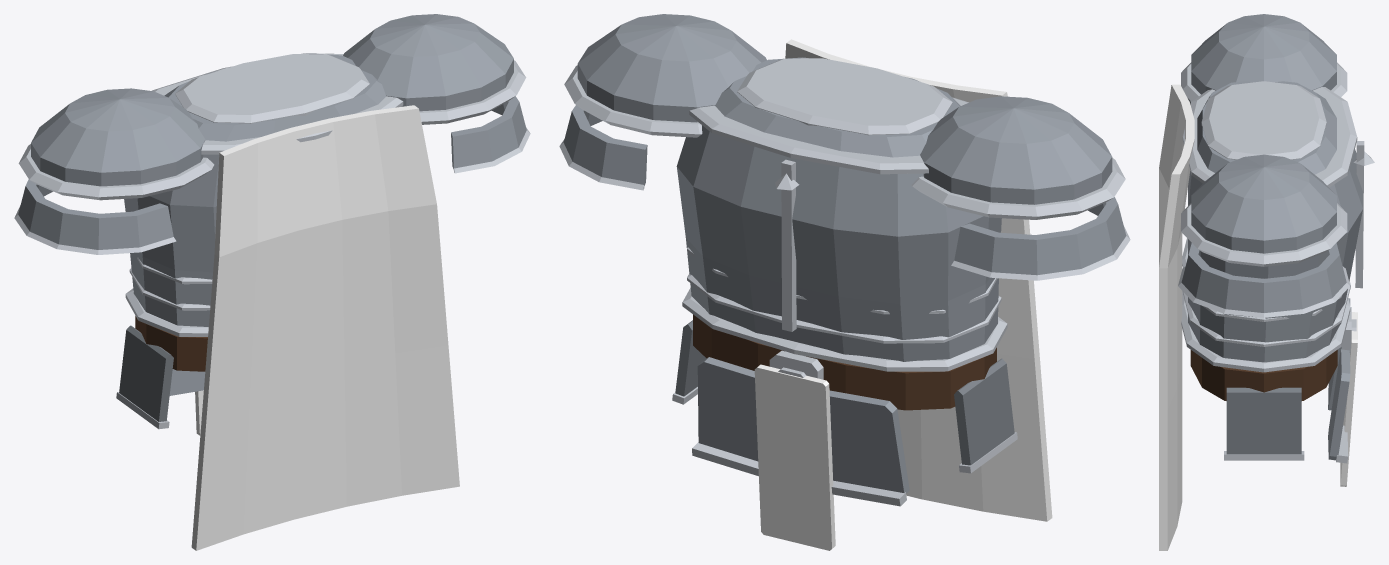
The model's file is look3_armor_greatsword_normal.fbx.
3 views of the same model, side by side, from view 1: azimuth 30°, elevation 25°; view 2: azimuth 150°, elevation 25°; view 3: azimuth 270°, elevation 25° (orthographic). The views are drawn at different scales.
Parts seen in each view (by area): view 1: Main, Tasset; view 2: Main, Tasset; view 3: Main, Tasset.
Boxes of the visible parts, box(x1,y1,x2,y2) form: Main: box(14, 14, 530, 550); Tasset: box(116, 325, 205, 435); Main: box(559, 14, 1130, 521); Tasset: box(672, 320, 1017, 550); Main: box(1159, 14, 1374, 550); Tasset: box(1224, 298, 1357, 486).
Bounding box in the file's own units: 429 × 347 × 173.
